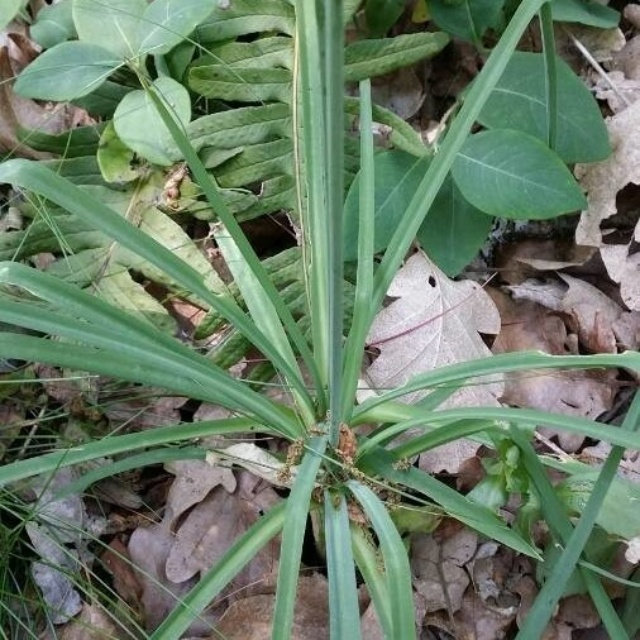obstacle: (63, 32, 588, 584), (446, 32, 602, 287), (14, 5, 206, 186)
